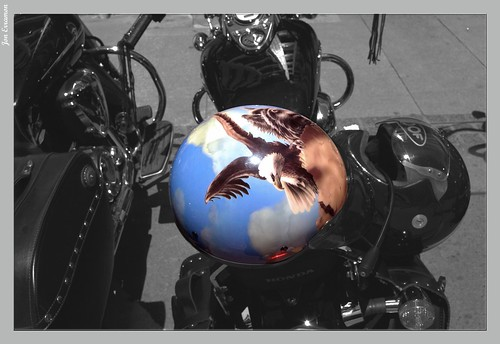helmet: (158, 100, 349, 268), (353, 111, 474, 254)
